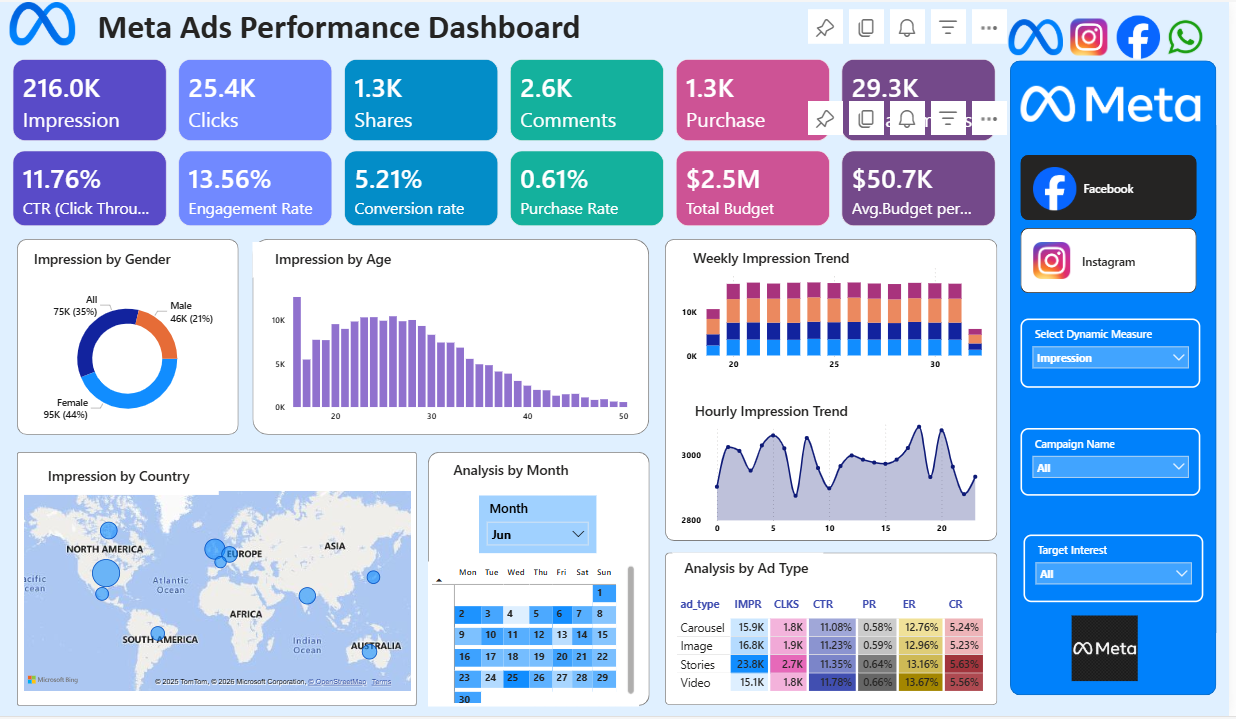

The dashboard page shown, as its layout file describes it:
{"tool":"powerbi","page":{"name":"Facebook","canvas":[1551,900],"ordinal":0},"visuals":[{"type":"textbox","box":[109.9,0,696.1,73.3],"z":0},{"type":"image","box":[0,0,109.9,55],"z":1000},{"type":"shape","box":[1274,74,260,800],"z":2000},{"type":"cardVisual","fields":{"Data":["ad_events.Impression","ad_events.Clicks","ad_events.Shares","ad_events.Comments","ad_events.Purchase","ad_events.Engagements"]},"box":[0,54.6,1273.1,137.6],"z":3000},{"type":"cardVisual","fields":{"Data":["ad_events.CTR (Click Through Rate)","ad_events.Engagement Rate","ad_events.Conversion rate","ad_events.Purchase Rate","ad_events.Total Budget","ad_events.Avg.Budget per Campaign"]},"box":[0,170,1273.1,129.5],"z":4000},{"type":"slicer","fields":{"Values":["Select Dynamic Measure.Select Dynamic Measure"]},"box":[1287.3,398.7,226.7,87],"z":5000},{"type":"shape","box":[22.3,299.6,279.3,246.9],"z":6000},{"type":"donutChart","fields":{"Y":["ad_events.Impression"],"Category":["ads.target_gender"]},"box":[28,360,266,180],"z":7000},{"type":"shape","box":[319.8,299.6,499.9,246.9],"z":8000},{"type":"columnChart","fields":{"Y":["ad_events.Impression"],"Category":["users.user_age"]},"box":[338,342,460,196],"z":9000},{"type":"card","fields":{"Values":["ad_events.Gender Title"]},"box":[28.3,301.6,202.4,44.5],"z":10000},{"type":"card","fields":{"Values":["ad_events.Age Title"]},"box":[319.8,301.6,202.4,44.5],"z":11000},{"type":"shape","box":[22.3,566.7,504,319.8],"z":12000},{"type":"map","fields":{"Size":["ad_events.Impression"],"Category":["users.country"]},"box":[26.3,611.3,497.9,263.1],"z":13000},{"type":"card","fields":{"Values":["ad_events.Map Title"]},"box":[28.3,576.9,249,44.5],"z":14000},{"type":"shape","box":[540.4,566.7,279.3,319.8],"z":15000},{"type":"pivotTable","fields":{"Rows":["Calendar Table.Week Number"],"Columns":["Calendar Table.Day Name"],"Values":["Min(Calendar Table.Day Number)"]},"box":[540.4,704.4,265.1,182.2],"z":16000},{"type":"slicer","fields":{"Values":["Calendar Table.Month"]},"box":[605.2,621.4,147.8,72.9],"z":17000},{"type":"card","fields":{"Values":["ad_events.Calendar Title"]},"box":[552.6,570.8,190.3,40.5],"z":18000},{"type":"shape","box":[840,299.6,419,380.5],"z":19000},{"type":"columnChart","fields":{"Y":["ad_events.Impression"],"Category":["Calendar Table.Week Number"],"Series":["ads.ad_type"]},"box":[854.1,321.8,390.6,151.8],"z":20000},{"type":"card","fields":{"Values":["ad_events.Weekly Title"]},"box":[854.1,301.6,236.8,42.5],"z":21000},{"type":"areaChart","fields":{"Y":["ad_events.Impression"],"Category":["ad_events.Event Hour"]},"box":[854.1,516.1,390.6,163.9],"z":22000},{"type":"card","fields":{"Values":["ad_events.Hourly Title"]},"box":[854.1,495.9,236.8,42.5],"z":23000},{"type":"shape","box":[840,694.2,419,192.3],"z":24000},{"type":"pivotTable","fields":{"Rows":["ads.ad_type"],"Values":["ad_events.Impression","ad_events.Clicks","ad_events.CTR (Click Through Rate)","ad_events.Purchase Rate","ad_events.Engagement Rate","ad_events.Conversion rate"]},"box":[848.1,742.8,404.8,130],"z":25000},{"type":"card","fields":{"Values":["ad_events.Matrix Title"]},"box":[848.1,694.2,190.3,40.5],"z":26000},{"type":"image","box":[1287.3,87,226.7,83],"z":27000},{"type":"slicer","fields":{"Values":["campaigns.name"]},"box":[1287.3,536.4,226.7,85],"z":28000},{"type":"slicer","fields":{"Values":["ads.target_interests"]},"box":[1291.3,672,226.7,85],"z":29000},{"type":"pageNavigator","box":[1287.3,192.3,222.6,174.1],"z":30000},{"type":"image","box":[1287.3,301.6,78.9,46.6],"z":31000},{"type":"image","box":[1291.3,208.5,78.9,54.6],"z":32000},{"type":"image","box":[1291.3,773.2,204.4,83],"z":33000},{"type":"image","box":[1473.5,16.2,44.5,54.6],"z":34000},{"type":"image","box":[1404.7,16.2,62.7,54.6],"z":35000},{"type":"image","box":[1341.9,20.2,62.7,46.6],"z":36000},{"type":"image","box":[1273.1,16.2,68.8,54.6],"z":37000}]}

Visuals, with their boxes in screenshot pixels (x1, y1, x2, y2), scaled from the page's 1551x900 canvas onto the 1236x719 screenshot:
textbox: [88, 0, 642, 59]
image: [0, 0, 88, 44]
shape: [1015, 59, 1222, 698]
cardVisual - ad_events.Impression x ad_events.Clicks: [0, 44, 1015, 154]
cardVisual - ad_events.CTR (Click Through Rate) x ad_events.Engagement Rate: [0, 136, 1015, 239]
slicer - Select Dynamic Measure.Select Dynamic Measure: [1026, 319, 1207, 388]
shape: [18, 239, 240, 437]
donutChart - ad_events.Impression x ads.target_gender: [22, 288, 234, 431]
shape: [255, 239, 653, 437]
columnChart - ad_events.Impression x users.user_age: [269, 273, 636, 430]
card - ad_events.Gender Title: [23, 241, 184, 276]
card - ad_events.Age Title: [255, 241, 416, 276]
shape: [18, 453, 419, 708]
map - ad_events.Impression x users.country: [21, 488, 418, 699]
card - ad_events.Map Title: [23, 461, 221, 496]
shape: [431, 453, 653, 708]
pivotTable - Calendar Table.Week Number x Calendar Table.Day Name: [431, 563, 642, 708]
slicer - Calendar Table.Month: [482, 496, 600, 555]
card - ad_events.Calendar Title: [440, 456, 592, 488]
shape: [669, 239, 1003, 543]
columnChart - ad_events.Impression x Calendar Table.Week Number: [681, 257, 992, 378]
card - ad_events.Weekly Title: [681, 241, 869, 275]
areaChart - ad_events.Impression x ad_events.Event Hour: [681, 412, 992, 543]
card - ad_events.Hourly Title: [681, 396, 869, 430]
shape: [669, 555, 1003, 708]
pivotTable - ads.ad_type x ad_events.Impression: [676, 593, 998, 697]
card - ad_events.Matrix Title: [676, 555, 828, 587]
image: [1026, 70, 1207, 136]
slicer - campaigns.name: [1026, 429, 1207, 496]
slicer - ads.target_interests: [1029, 537, 1210, 605]
pageNavigator: [1026, 154, 1203, 293]
image: [1026, 241, 1089, 278]
image: [1029, 167, 1092, 210]
image: [1029, 618, 1192, 684]
image: [1174, 13, 1210, 57]
image: [1119, 13, 1169, 57]
image: [1069, 16, 1119, 53]
image: [1015, 13, 1069, 57]
